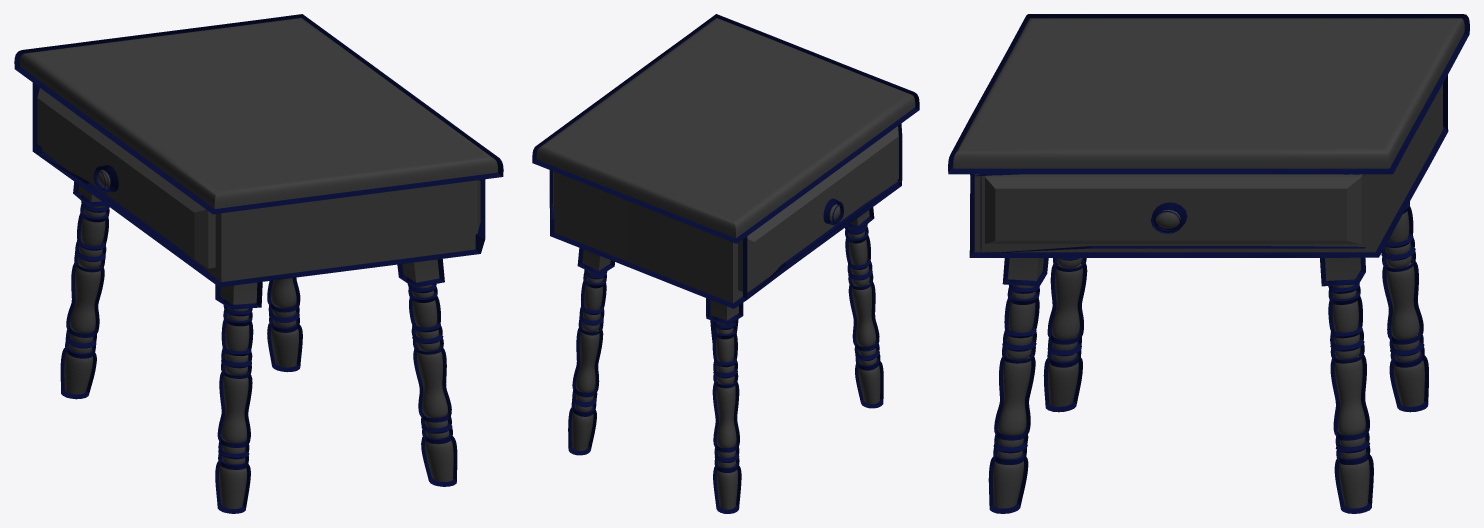
The picture shows the model from 3 angles, left to right: view 1: azimuth 30°, elevation 25°; view 2: azimuth 150°, elevation 25°; view 3: azimuth 270°, elevation 25°; orthographic projection. The views are drawn at different scales.
Parts seen in each view (by area): view 1: TVStand; view 2: TVStand; view 3: TVStand.
Boxes of the visible parts, bbox=[...] form: TVStand: bbox=[14, 14, 503, 513]; TVStand: bbox=[532, 14, 919, 513]; TVStand: bbox=[948, 14, 1469, 513].
Bounding box in the file's own units: 0.5353 × 0.5987 × 0.7517.
